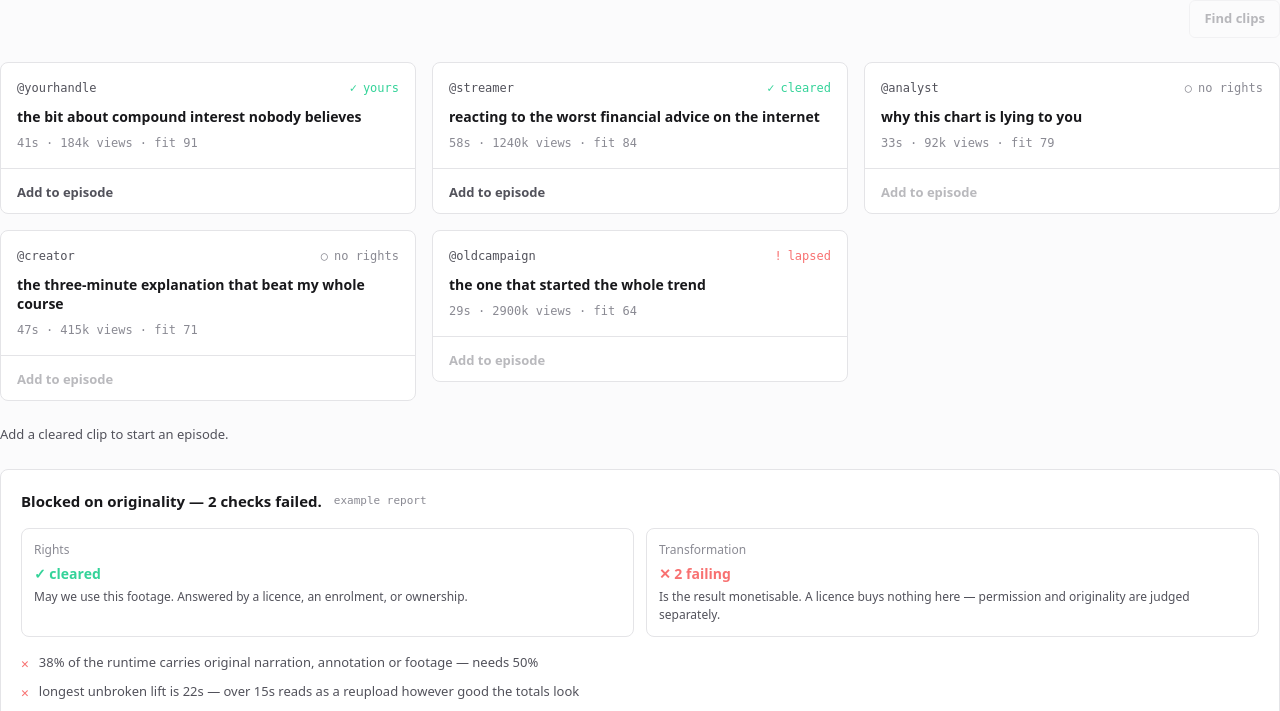
Test case: the rights panel › opens on a card and offers the two built lanes
The image size is (1280, 711).
Step 1. Click the text "why this chart is lying to you" → (982, 116), box 881,106 -> 1082,126
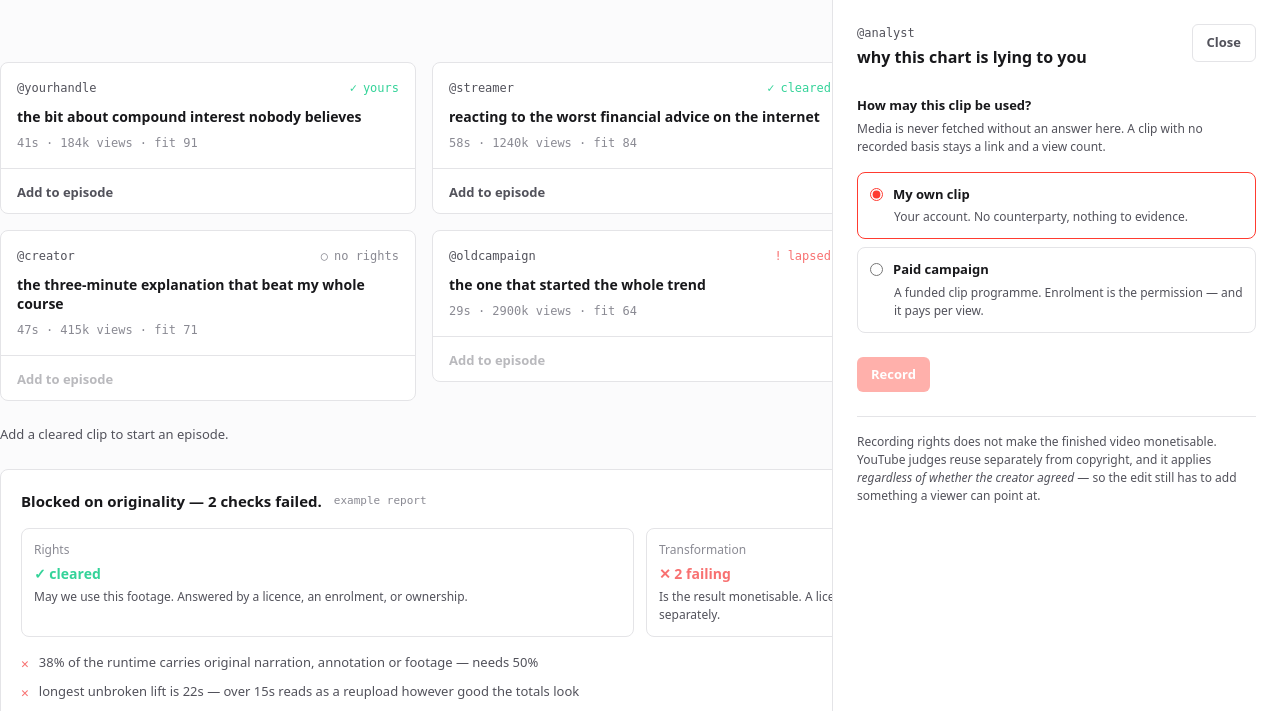
Now the text "My own clip" is shown, box 893,184 -> 970,204
Now the text "Paid campaign" is shown, box 893,260 -> 989,280
